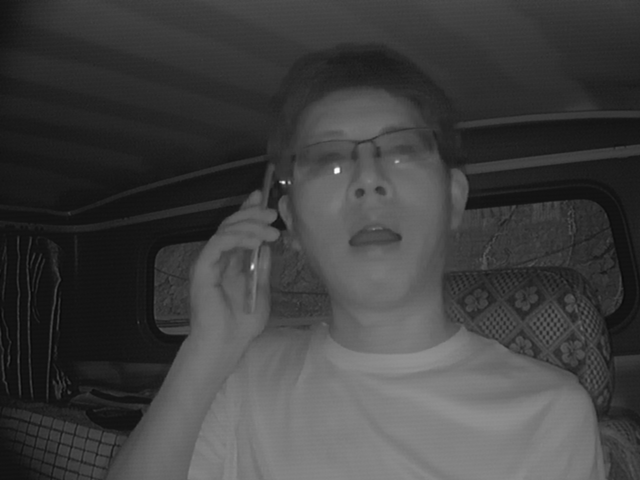hand: (184, 192, 279, 335)
